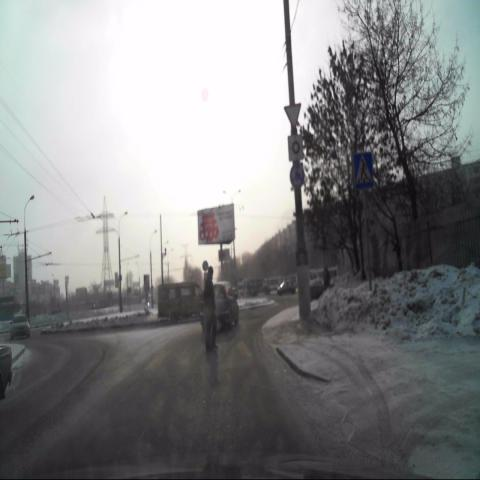4_3: (289, 164, 305, 189)
8_13_1: (288, 135, 303, 159)
